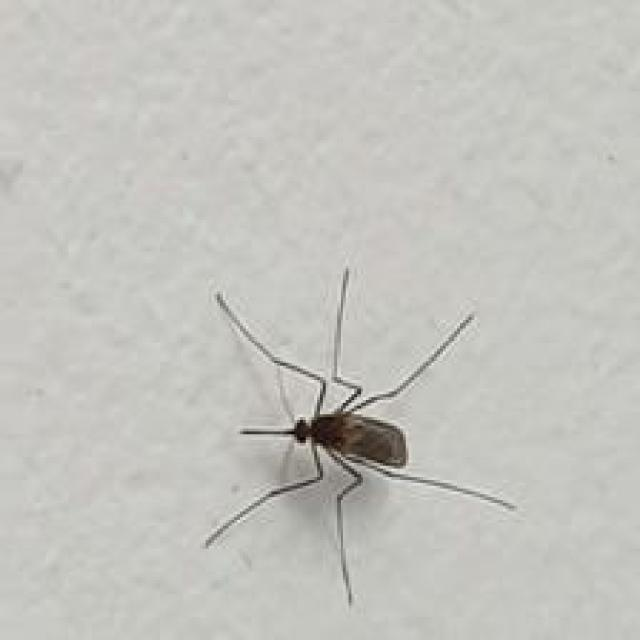Culex: (203, 264, 517, 607)
